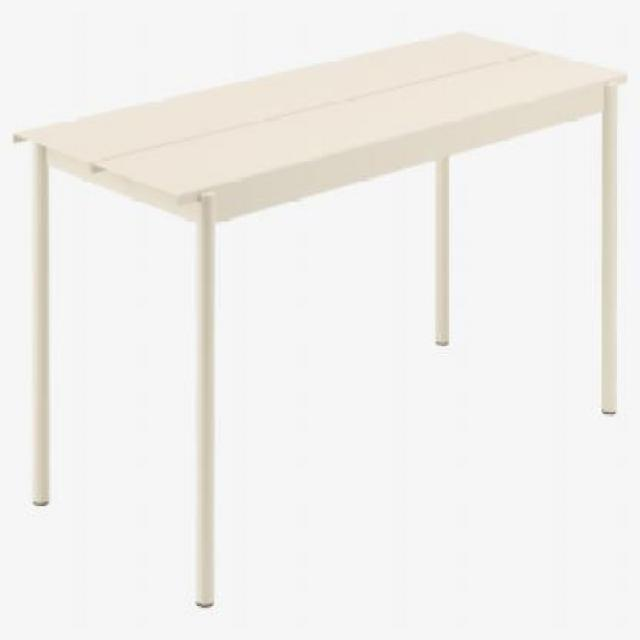table: (11, 26, 626, 606)
